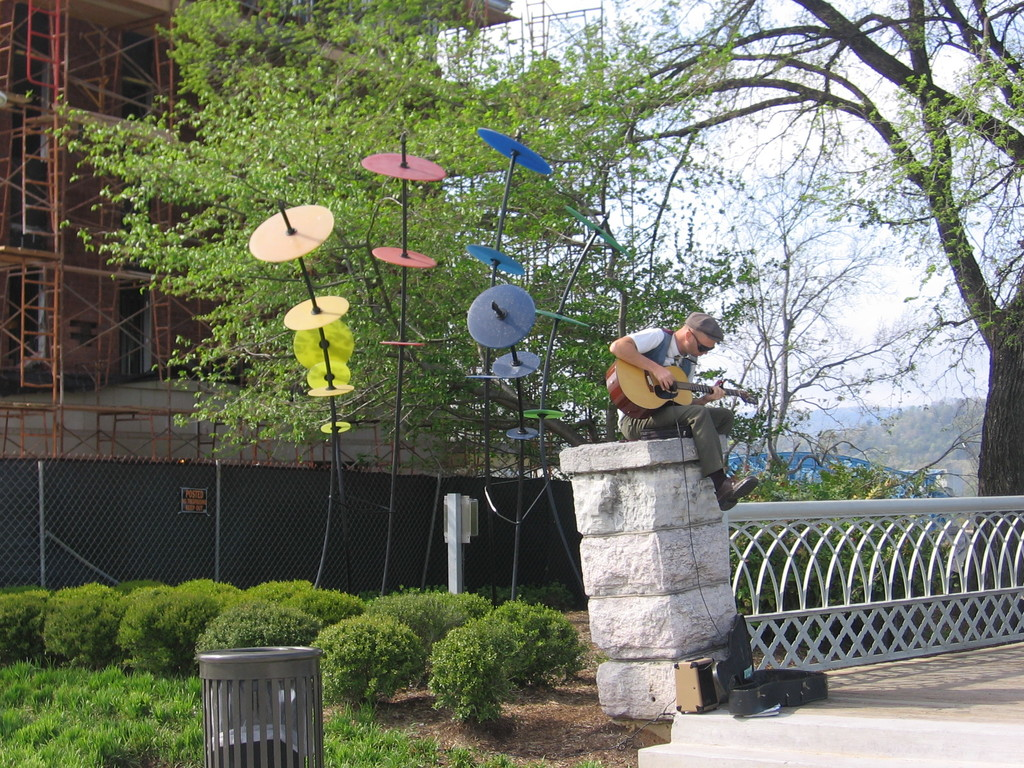Tree: (40, 0, 1023, 609)
